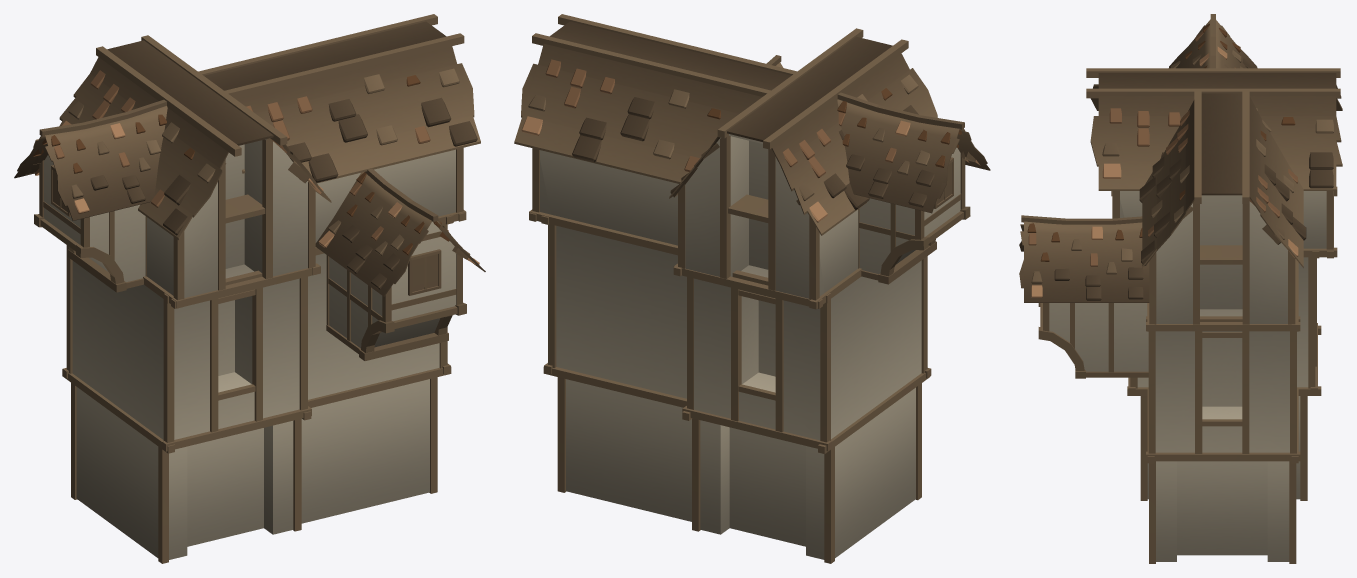
The model's file is ZLP_Build_A_3.FBX.
3 views of the same model, side by side, from view 1: azimuth 30°, elevation 25°; view 2: azimuth 150°, elevation 25°; view 3: azimuth 270°, elevation 25° (orthographic). The views are drawn at different scales.
Visible parts, largest first — view 1: ZLP_Build_A_3; view 2: ZLP_Build_A_3; view 3: ZLP_Build_A_3.
Part boxes in pixels (bbox=[...]): ZLP_Build_A_3: bbox=[14, 14, 485, 563]; ZLP_Build_A_3: bbox=[514, 14, 990, 563]; ZLP_Build_A_3: bbox=[1019, 14, 1342, 563].
Bounding box in the file's own units: 1179 × 1156 × 869.
